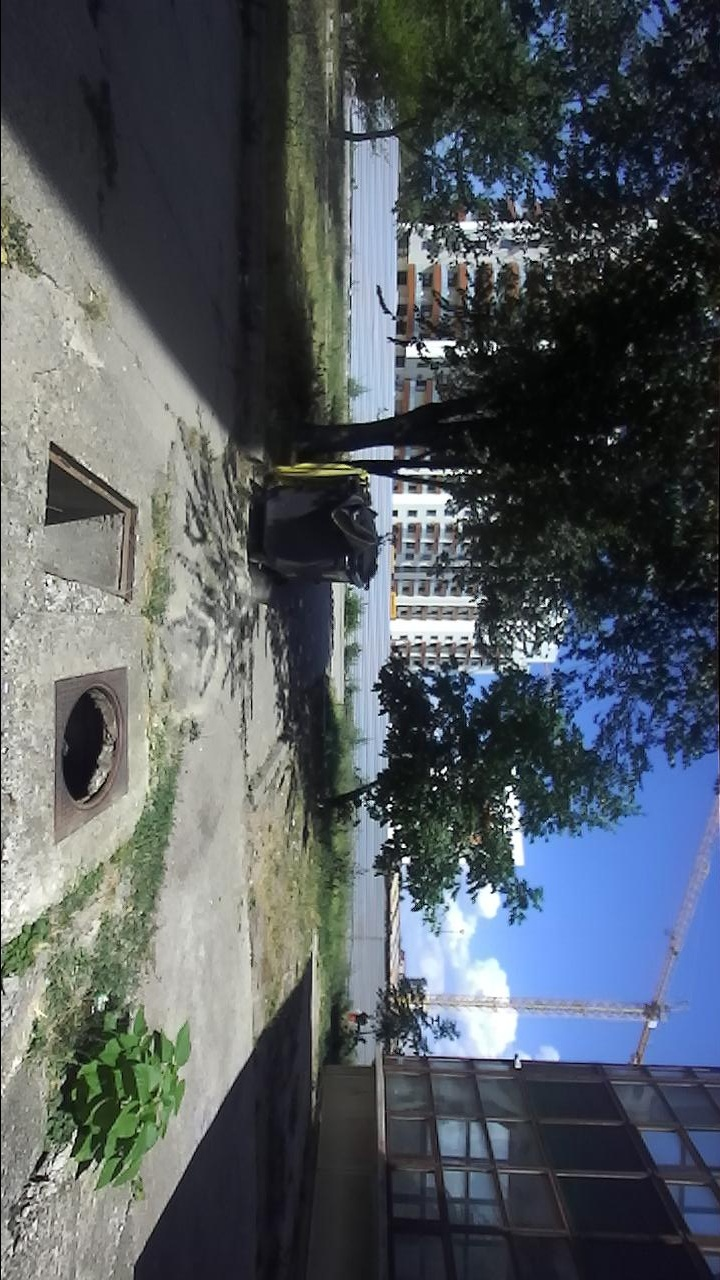drain: (43, 438, 143, 605), (57, 681, 126, 814)
